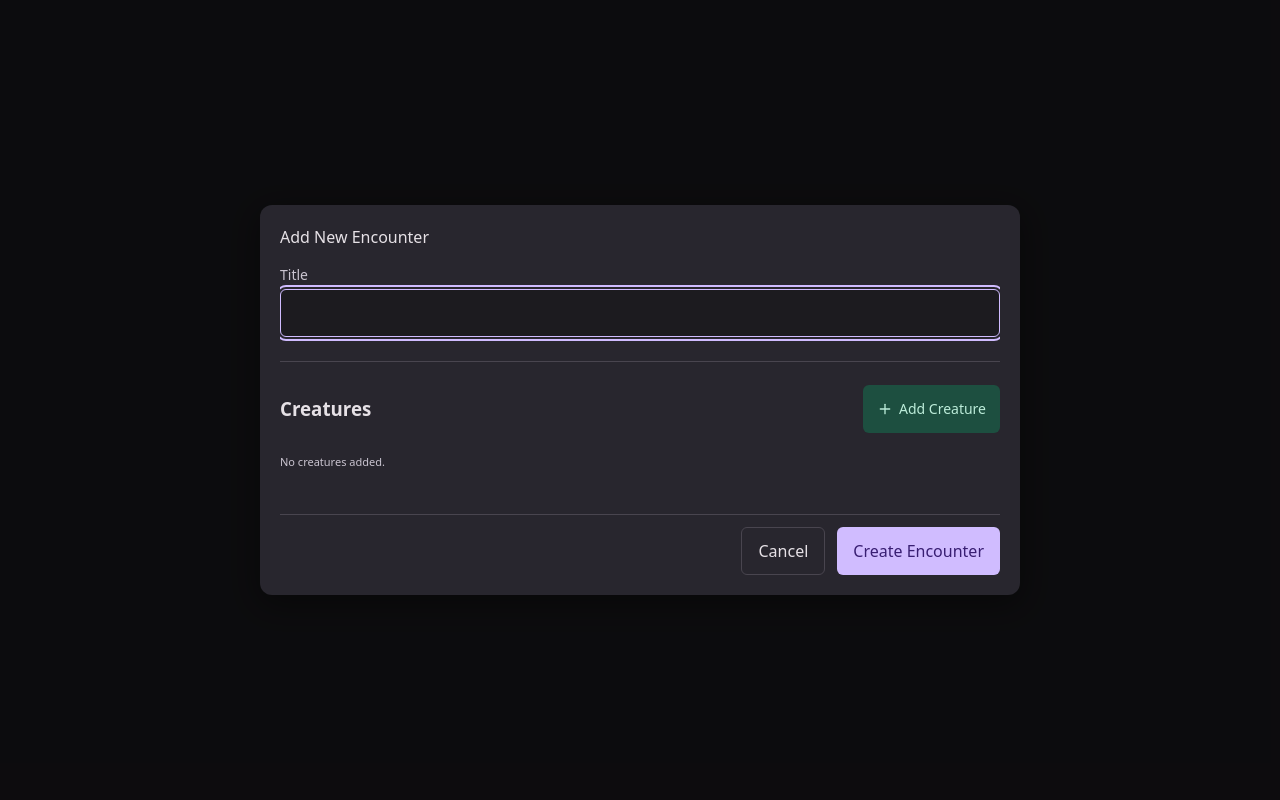
Test: EncounterEditor › C1: Stat propagation › picking a monster fills HP current/max/AC from defaults
Click the button "Add Creature".
click(932, 408)  # box [863,384,1000,432]
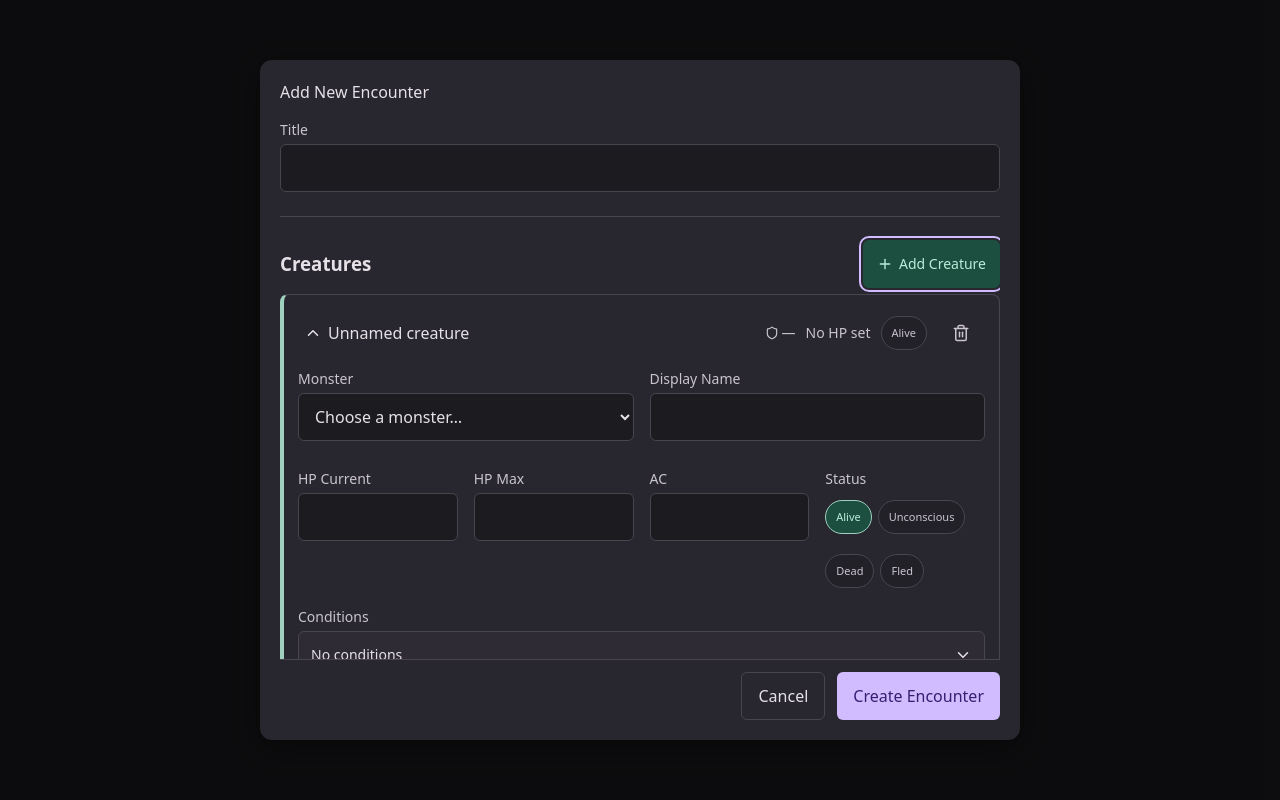
Select "Goblin" in the dropdown labelled "Monster" at (466, 417), box [298,393,634,441]
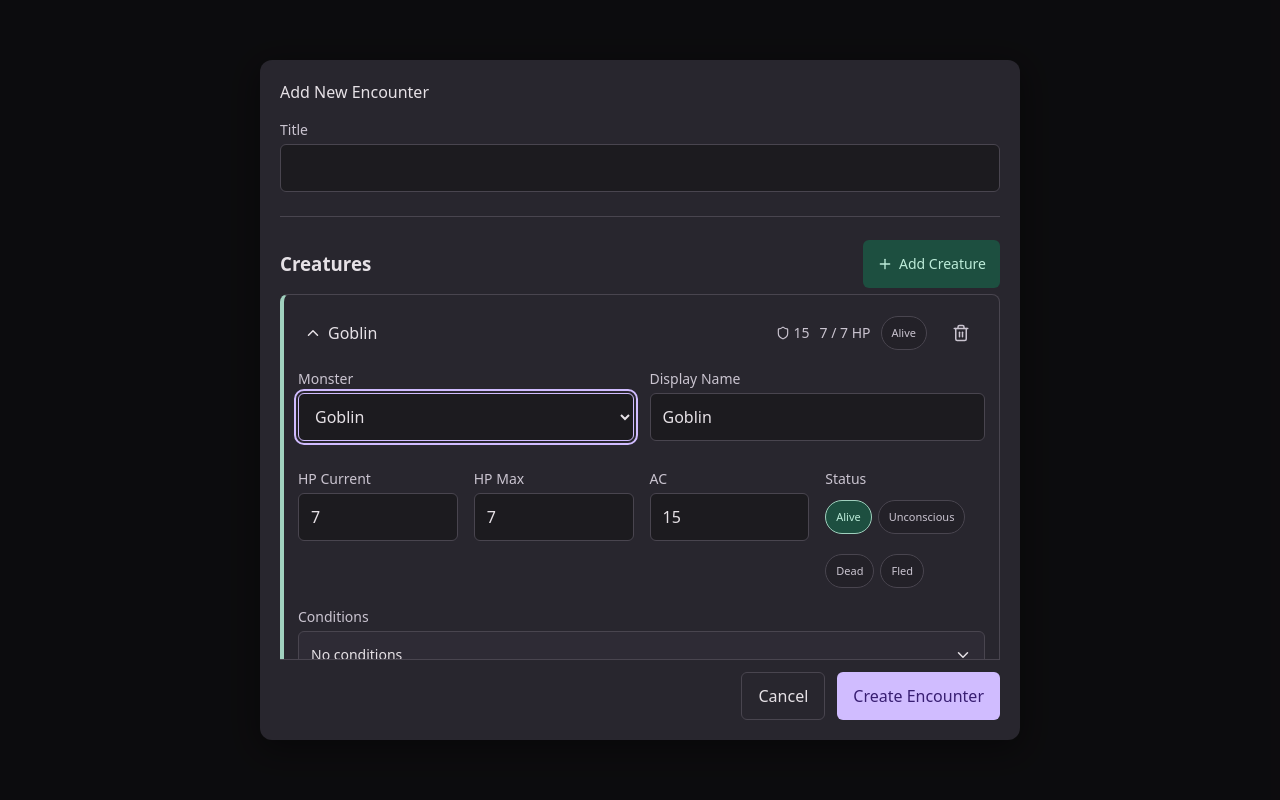
Expected: the number field labelled "HP Current" holds "7", [298,493,458,541]
Expected: the number field labelled "HP Max" holds "7", [474,493,634,541]
Expected: the number field labelled "AC" holds "15", [650,493,809,541]
